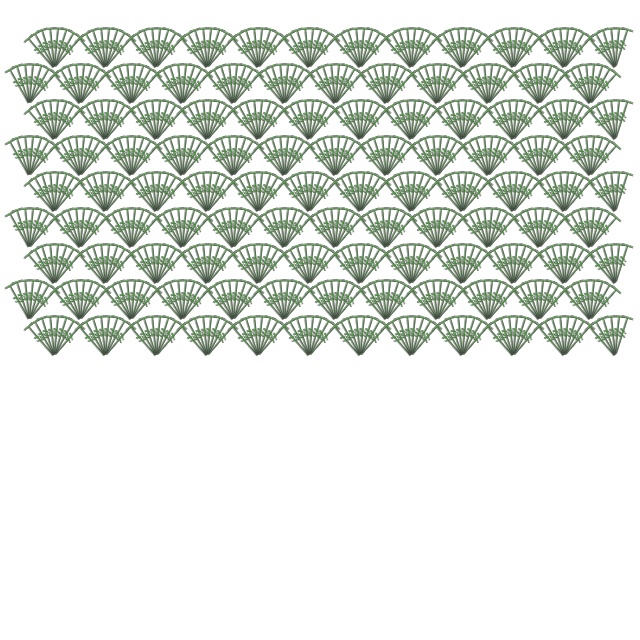fan: (22, 32, 61, 73), (49, 32, 88, 73), (73, 32, 112, 73), (100, 32, 139, 73), (124, 32, 163, 73), (151, 32, 190, 73), (175, 32, 214, 73), (202, 32, 241, 73), (226, 32, 265, 73), (253, 32, 292, 73), (277, 32, 316, 73), (304, 32, 343, 73), (328, 32, 367, 73), (355, 32, 394, 73), (379, 32, 418, 73), (406, 32, 445, 73), (430, 32, 469, 73), (457, 32, 496, 73), (481, 32, 520, 73), (508, 32, 547, 73), (532, 32, 571, 73), (559, 32, 598, 73), (583, 32, 622, 73), (24, 68, 63, 109), (48, 68, 87, 109), (75, 68, 114, 109), (99, 68, 138, 109), (126, 68, 165, 109), (150, 68, 189, 109), (177, 68, 216, 109), (201, 68, 240, 109), (228, 68, 267, 109), (252, 68, 291, 109), (279, 68, 318, 109), (303, 68, 342, 109), (330, 68, 369, 109), (354, 68, 393, 109), (381, 68, 420, 109), (405, 68, 444, 109), (432, 68, 471, 109), (456, 68, 495, 109), (483, 68, 522, 109), (507, 68, 546, 109), (534, 68, 573, 109), (558, 68, 597, 109), (585, 68, 624, 109), (22, 104, 61, 145), (49, 104, 88, 145), (73, 104, 112, 145), (100, 104, 139, 145), (124, 104, 163, 145), (151, 104, 190, 145), (175, 104, 214, 145), (202, 104, 241, 145), (226, 104, 265, 145), (253, 104, 292, 145), (277, 104, 316, 145), (304, 104, 343, 145), (328, 104, 367, 145), (355, 104, 394, 145), (379, 104, 418, 145), (406, 104, 445, 145), (430, 104, 469, 145), (457, 104, 496, 145), (481, 104, 520, 145), (508, 104, 547, 145), (532, 104, 571, 145), (559, 104, 598, 145), (583, 104, 622, 145), (24, 140, 63, 181), (48, 140, 87, 181), (75, 140, 114, 181), (99, 140, 138, 181), (126, 140, 165, 181), (150, 140, 189, 181), (177, 140, 216, 181), (201, 140, 240, 181), (228, 140, 267, 181), (252, 140, 291, 181), (279, 140, 318, 181), (303, 140, 342, 181), (330, 140, 369, 181), (354, 140, 393, 181), (381, 140, 420, 181), (405, 140, 444, 181), (432, 140, 471, 181), (456, 140, 495, 181), (483, 140, 522, 181), (507, 140, 546, 181), (534, 140, 573, 181), (558, 140, 597, 181), (585, 140, 624, 181), (22, 176, 61, 217), (49, 176, 88, 217), (73, 176, 112, 217), (100, 176, 139, 217), (124, 176, 163, 217), (151, 176, 190, 217), (175, 176, 214, 217), (202, 176, 241, 217), (226, 176, 265, 217), (253, 176, 292, 217), (277, 176, 316, 217), (304, 176, 343, 217), (328, 176, 367, 217), (355, 176, 394, 217), (379, 176, 418, 217), (406, 176, 445, 217), (430, 176, 469, 217), (457, 176, 496, 217), (481, 176, 520, 217), (508, 176, 547, 217), (532, 176, 571, 217), (559, 176, 598, 217), (583, 176, 622, 217), (24, 212, 63, 253), (48, 212, 87, 253), (75, 212, 114, 253), (99, 212, 138, 253), (126, 212, 165, 253), (150, 212, 189, 253), (177, 212, 216, 253), (201, 212, 240, 253), (228, 212, 267, 253), (252, 212, 291, 253), (279, 212, 318, 253), (303, 212, 342, 253), (330, 212, 369, 253), (354, 212, 393, 253), (381, 212, 420, 253), (405, 212, 444, 253), (432, 212, 471, 253), (456, 212, 495, 253), (483, 212, 522, 253), (507, 212, 546, 253), (534, 212, 573, 253), (558, 212, 597, 253), (585, 212, 624, 253), (22, 248, 61, 289), (49, 248, 88, 289), (73, 248, 112, 289), (100, 248, 139, 289), (124, 248, 163, 289), (151, 248, 190, 289), (175, 248, 214, 289), (202, 248, 241, 289), (226, 248, 265, 289), (253, 248, 292, 289), (277, 248, 316, 289), (304, 248, 343, 289), (328, 248, 367, 289), (355, 248, 394, 289), (379, 248, 418, 289), (406, 248, 445, 289), (430, 248, 469, 289), (457, 248, 496, 289), (481, 248, 520, 289), (508, 248, 547, 289), (532, 248, 571, 289), (559, 248, 598, 289), (583, 248, 622, 289), (24, 284, 63, 325), (48, 284, 87, 325), (75, 284, 114, 325), (99, 284, 138, 325), (126, 284, 165, 325), (150, 284, 189, 325), (177, 284, 216, 325), (201, 284, 240, 325), (228, 284, 267, 325), (252, 284, 291, 325), (279, 284, 318, 325), (303, 284, 342, 325), (330, 284, 369, 325), (354, 284, 393, 325), (381, 284, 420, 325), (405, 284, 444, 325), (432, 284, 471, 325), (456, 284, 495, 325), (483, 284, 522, 325), (507, 284, 546, 325), (534, 284, 573, 325), (558, 284, 597, 325), (585, 284, 624, 325), (22, 320, 61, 361), (49, 320, 88, 361), (73, 320, 112, 361), (100, 320, 139, 361), (124, 320, 163, 361), (151, 320, 190, 361), (175, 320, 214, 361), (202, 320, 241, 361), (226, 320, 265, 361), (253, 320, 292, 361), (277, 320, 316, 361), (304, 320, 343, 361), (328, 320, 367, 361), (355, 320, 394, 361), (379, 320, 418, 361), (406, 320, 445, 361), (430, 320, 469, 361), (457, 320, 496, 361), (481, 320, 520, 361), (508, 320, 547, 361), (532, 320, 571, 361), (559, 320, 598, 361), (583, 320, 622, 361), (28, 29, 62, 72), (48, 29, 82, 72), (79, 29, 113, 72), (99, 29, 133, 72), (130, 29, 164, 72), (150, 29, 184, 72), (181, 29, 215, 72), (201, 29, 235, 72), (232, 29, 266, 72), (252, 29, 286, 72), (283, 29, 317, 72), (303, 29, 337, 72), (334, 29, 368, 72), (354, 29, 388, 72), (385, 29, 419, 72), (405, 29, 439, 72), (436, 29, 470, 72), (456, 29, 490, 72), (487, 29, 521, 72), (507, 29, 541, 72), (538, 29, 572, 72), (558, 29, 592, 72), (589, 29, 623, 72), (3, 65, 37, 108), (23, 65, 57, 108), (54, 65, 88, 108), (74, 65, 108, 108), (105, 65, 139, 108), (125, 65, 159, 108), (156, 65, 190, 108), (176, 65, 210, 108), (207, 65, 241, 108), (227, 65, 261, 108), (258, 65, 292, 108), (278, 65, 312, 108), (309, 65, 343, 108), (329, 65, 363, 108), (360, 65, 394, 108), (380, 65, 414, 108), (411, 65, 445, 108), (431, 65, 465, 108), (462, 65, 496, 108), (482, 65, 516, 108), (513, 65, 547, 108), (533, 65, 567, 108), (564, 65, 598, 108), (584, 65, 618, 108), (28, 101, 62, 144), (48, 101, 82, 144), (79, 101, 113, 144), (99, 101, 133, 144), (130, 101, 164, 144), (150, 101, 184, 144), (181, 101, 215, 144), (201, 101, 235, 144), (232, 101, 266, 144), (252, 101, 286, 144), (283, 101, 317, 144), (303, 101, 337, 144), (334, 101, 368, 144), (354, 101, 388, 144), (385, 101, 419, 144), (405, 101, 439, 144), (436, 101, 470, 144), (456, 101, 490, 144), (487, 101, 521, 144), (507, 101, 541, 144), (538, 101, 572, 144), (558, 101, 592, 144), (589, 101, 623, 144), (3, 137, 37, 180), (23, 137, 57, 180), (54, 137, 88, 180), (74, 137, 108, 180), (105, 137, 139, 180), (125, 137, 159, 180), (156, 137, 190, 180), (176, 137, 210, 180), (207, 137, 241, 180), (227, 137, 261, 180), (258, 137, 292, 180), (278, 137, 312, 180), (309, 137, 343, 180), (329, 137, 363, 180), (360, 137, 394, 180), (380, 137, 414, 180), (411, 137, 445, 180), (431, 137, 465, 180), (462, 137, 496, 180), (482, 137, 516, 180), (513, 137, 547, 180), (533, 137, 567, 180), (564, 137, 598, 180), (584, 137, 618, 180), (28, 173, 62, 216), (48, 173, 82, 216), (79, 173, 113, 216), (99, 173, 133, 216), (130, 173, 164, 216), (150, 173, 184, 216), (181, 173, 215, 216), (201, 173, 235, 216), (232, 173, 266, 216), (252, 173, 286, 216), (283, 173, 317, 216), (303, 173, 337, 216), (334, 173, 368, 216), (354, 173, 388, 216), (385, 173, 419, 216), (405, 173, 439, 216), (436, 173, 470, 216), (456, 173, 490, 216), (487, 173, 521, 216), (507, 173, 541, 216), (538, 173, 572, 216), (558, 173, 592, 216), (589, 173, 623, 216), (3, 209, 37, 252), (23, 209, 57, 252), (54, 209, 88, 252), (74, 209, 108, 252), (105, 209, 139, 252), (125, 209, 159, 252), (156, 209, 190, 252), (176, 209, 210, 252), (207, 209, 241, 252), (227, 209, 261, 252), (258, 209, 292, 252), (278, 209, 312, 252), (309, 209, 343, 252), (329, 209, 363, 252), (360, 209, 394, 252), (380, 209, 414, 252), (411, 209, 445, 252), (431, 209, 465, 252), (462, 209, 496, 252), (482, 209, 516, 252), (513, 209, 547, 252), (533, 209, 567, 252), (564, 209, 598, 252), (584, 209, 618, 252), (28, 245, 62, 288), (48, 245, 82, 288), (79, 245, 113, 288), (99, 245, 133, 288), (130, 245, 164, 288), (150, 245, 184, 288), (181, 245, 215, 288), (201, 245, 235, 288), (232, 245, 266, 288), (252, 245, 286, 288), (283, 245, 317, 288), (303, 245, 337, 288), (334, 245, 368, 288), (354, 245, 388, 288), (385, 245, 419, 288), (405, 245, 439, 288), (436, 245, 470, 288), (456, 245, 490, 288), (487, 245, 521, 288), (507, 245, 541, 288), (538, 245, 572, 288), (558, 245, 592, 288), (589, 245, 623, 288), (3, 281, 37, 324), (23, 281, 57, 324), (54, 281, 88, 324), (74, 281, 108, 324), (105, 281, 139, 324), (125, 281, 159, 324), (156, 281, 190, 324), (176, 281, 210, 324), (207, 281, 241, 324), (227, 281, 261, 324), (258, 281, 292, 324), (278, 281, 312, 324), (309, 281, 343, 324), (329, 281, 363, 324), (360, 281, 394, 324), (380, 281, 414, 324), (411, 281, 445, 324), (431, 281, 465, 324), (462, 281, 496, 324), (482, 281, 516, 324), (513, 281, 547, 324), (533, 281, 567, 324), (564, 281, 598, 324), (584, 281, 618, 324), (28, 317, 62, 360), (48, 317, 82, 360), (79, 317, 113, 360), (99, 317, 133, 360), (130, 317, 164, 360), (150, 317, 184, 360), (181, 317, 215, 360), (201, 317, 235, 360), (232, 317, 266, 360), (252, 317, 286, 360), (283, 317, 317, 360), (303, 317, 337, 360), (334, 317, 368, 360), (354, 317, 388, 360), (385, 317, 419, 360), (405, 317, 439, 360), (436, 317, 470, 360), (456, 317, 490, 360), (487, 317, 521, 360), (507, 317, 541, 360), (538, 317, 572, 360), (558, 317, 592, 360), (589, 317, 623, 360), (35, 27, 62, 70), (48, 27, 75, 70), (86, 27, 113, 70), (99, 27, 126, 70), (137, 27, 164, 70), (150, 27, 177, 70), (188, 27, 215, 70), (201, 27, 228, 70), (239, 27, 266, 70), (252, 27, 279, 70), (290, 27, 317, 70), (303, 27, 330, 70), (341, 27, 368, 70), (354, 27, 381, 70), (392, 27, 419, 70), (405, 27, 432, 70), (443, 27, 470, 70), (456, 27, 483, 70), (494, 27, 521, 70), (507, 27, 534, 70), (545, 27, 572, 70), (558, 27, 585, 70), (596, 27, 623, 70), (609, 27, 636, 70), (10, 63, 37, 106), (23, 63, 50, 106), (61, 63, 88, 106), (74, 63, 101, 106), (112, 63, 139, 106), (125, 63, 152, 106), (163, 63, 190, 106), (176, 63, 203, 106), (214, 63, 241, 106), (227, 63, 254, 106), (265, 63, 292, 106), (278, 63, 305, 106), (316, 63, 343, 106), (329, 63, 356, 106), (367, 63, 394, 106), (380, 63, 407, 106), (418, 63, 445, 106), (431, 63, 458, 106), (469, 63, 496, 106), (482, 63, 509, 106), (520, 63, 547, 106), (533, 63, 560, 106), (571, 63, 598, 106), (584, 63, 611, 106), (35, 99, 62, 142), (48, 99, 75, 142), (86, 99, 113, 142), (99, 99, 126, 142), (137, 99, 164, 142), (150, 99, 177, 142), (188, 99, 215, 142), (201, 99, 228, 142), (239, 99, 266, 142), (252, 99, 279, 142), (290, 99, 317, 142), (303, 99, 330, 142), (341, 99, 368, 142), (354, 99, 381, 142), (392, 99, 419, 142), (405, 99, 432, 142), (443, 99, 470, 142), (456, 99, 483, 142), (494, 99, 521, 142), (507, 99, 534, 142), (545, 99, 572, 142), (558, 99, 585, 142), (596, 99, 623, 142), (609, 99, 636, 142), (10, 135, 37, 178), (23, 135, 50, 178), (61, 135, 88, 178), (74, 135, 101, 178), (112, 135, 139, 178), (125, 135, 152, 178), (163, 135, 190, 178), (176, 135, 203, 178), (214, 135, 241, 178), (227, 135, 254, 178), (265, 135, 292, 178), (278, 135, 305, 178), (316, 135, 343, 178), (329, 135, 356, 178), (367, 135, 394, 178), (380, 135, 407, 178), (418, 135, 445, 178), (431, 135, 458, 178), (469, 135, 496, 178), (482, 135, 509, 178), (520, 135, 547, 178), (533, 135, 560, 178), (571, 135, 598, 178), (584, 135, 611, 178), (35, 171, 62, 214), (48, 171, 75, 214), (86, 171, 113, 214), (99, 171, 126, 214), (137, 171, 164, 214), (150, 171, 177, 214), (188, 171, 215, 214), (201, 171, 228, 214), (239, 171, 266, 214), (252, 171, 279, 214), (290, 171, 317, 214), (303, 171, 330, 214), (341, 171, 368, 214), (354, 171, 381, 214), (392, 171, 419, 214), (405, 171, 432, 214), (443, 171, 470, 214), (456, 171, 483, 214), (494, 171, 521, 214), (507, 171, 534, 214), (545, 171, 572, 214), (558, 171, 585, 214), (596, 171, 623, 214), (609, 171, 636, 214), (10, 207, 37, 250), (23, 207, 50, 250), (61, 207, 88, 250), (74, 207, 101, 250), (112, 207, 139, 250), (125, 207, 152, 250), (163, 207, 190, 250), (176, 207, 203, 250), (214, 207, 241, 250), (227, 207, 254, 250), (265, 207, 292, 250), (278, 207, 305, 250), (316, 207, 343, 250), (329, 207, 356, 250), (367, 207, 394, 250), (380, 207, 407, 250), (418, 207, 445, 250), (431, 207, 458, 250), (469, 207, 496, 250), (482, 207, 509, 250), (520, 207, 547, 250), (533, 207, 560, 250), (571, 207, 598, 250), (584, 207, 611, 250), (35, 243, 62, 286), (48, 243, 75, 286), (86, 243, 113, 286), (99, 243, 126, 286), (137, 243, 164, 286), (150, 243, 177, 286), (188, 243, 215, 286), (201, 243, 228, 286), (239, 243, 266, 286), (252, 243, 279, 286), (290, 243, 317, 286), (303, 243, 330, 286), (341, 243, 368, 286), (354, 243, 381, 286), (392, 243, 419, 286), (405, 243, 432, 286), (443, 243, 470, 286), (456, 243, 483, 286), (494, 243, 521, 286), (507, 243, 534, 286), (545, 243, 572, 286), (558, 243, 585, 286), (596, 243, 623, 286), (609, 243, 636, 286), (10, 279, 37, 322), (23, 279, 50, 322), (61, 279, 88, 322), (74, 279, 101, 322), (112, 279, 139, 322), (125, 279, 152, 322), (163, 279, 190, 322), (176, 279, 203, 322), (214, 279, 241, 322), (227, 279, 254, 322), (265, 279, 292, 322), (278, 279, 305, 322), (316, 279, 343, 322), (329, 279, 356, 322), (367, 279, 394, 322), (380, 279, 407, 322), (418, 279, 445, 322), (431, 279, 458, 322), (469, 279, 496, 322), (482, 279, 509, 322), (520, 279, 547, 322), (533, 279, 560, 322), (571, 279, 598, 322), (584, 279, 611, 322), (35, 315, 62, 358), (48, 315, 75, 358), (86, 315, 113, 358), (99, 315, 126, 358), (137, 315, 164, 358), (150, 315, 177, 358), (188, 315, 215, 358), (201, 315, 228, 358), (239, 315, 266, 358), (252, 315, 279, 358), (290, 315, 317, 358), (303, 315, 330, 358), (341, 315, 368, 358), (354, 315, 381, 358), (392, 315, 419, 358), (405, 315, 432, 358), (443, 315, 470, 358), (456, 315, 483, 358), (494, 315, 521, 358), (507, 315, 534, 358), (545, 315, 572, 358), (558, 315, 585, 358), (596, 315, 623, 358), (609, 315, 636, 358), (43, 26, 62, 69), (48, 26, 67, 69), (94, 26, 113, 69), (99, 26, 118, 69), (145, 26, 164, 69), (150, 26, 169, 69), (196, 26, 215, 69), (201, 26, 220, 69), (247, 26, 266, 69), (252, 26, 271, 69), (298, 26, 317, 69), (303, 26, 322, 69), (349, 26, 368, 69), (354, 26, 373, 69), (400, 26, 419, 69), (405, 26, 424, 69), (451, 26, 470, 69), (456, 26, 475, 69), (502, 26, 521, 69), (507, 26, 526, 69), (553, 26, 572, 69), (558, 26, 577, 69), (604, 26, 623, 69), (609, 26, 628, 69), (18, 62, 37, 105), (23, 62, 42, 105), (69, 62, 88, 105), (74, 62, 93, 105), (120, 62, 139, 105), (125, 62, 144, 105), (171, 62, 190, 105), (176, 62, 195, 105), (222, 62, 241, 105), (227, 62, 246, 105), (273, 62, 292, 105), (278, 62, 297, 105), (324, 62, 343, 105), (329, 62, 348, 105), (375, 62, 394, 105), (380, 62, 399, 105), (426, 62, 445, 105), (431, 62, 450, 105), (477, 62, 496, 105), (482, 62, 501, 105), (528, 62, 547, 105), (533, 62, 552, 105), (579, 62, 598, 105), (584, 62, 603, 105), (43, 98, 62, 141), (48, 98, 67, 141), (94, 98, 113, 141), (99, 98, 118, 141), (145, 98, 164, 141), (150, 98, 169, 141), (196, 98, 215, 141), (201, 98, 220, 141), (247, 98, 266, 141), (252, 98, 271, 141), (298, 98, 317, 141), (303, 98, 322, 141), (349, 98, 368, 141), (354, 98, 373, 141), (400, 98, 419, 141), (405, 98, 424, 141), (451, 98, 470, 141), (456, 98, 475, 141), (502, 98, 521, 141), (507, 98, 526, 141), (553, 98, 572, 141), (558, 98, 577, 141), (604, 98, 623, 141), (609, 98, 628, 141), (18, 134, 37, 177), (23, 134, 42, 177), (69, 134, 88, 177), (74, 134, 93, 177), (120, 134, 139, 177), (125, 134, 144, 177), (171, 134, 190, 177), (176, 134, 195, 177), (222, 134, 241, 177), (227, 134, 246, 177), (273, 134, 292, 177), (278, 134, 297, 177), (324, 134, 343, 177), (329, 134, 348, 177), (375, 134, 394, 177), (380, 134, 399, 177), (426, 134, 445, 177), (431, 134, 450, 177), (477, 134, 496, 177), (482, 134, 501, 177), (528, 134, 547, 177), (533, 134, 552, 177), (579, 134, 598, 177), (584, 134, 603, 177), (43, 170, 62, 213), (48, 170, 67, 213), (94, 170, 113, 213), (99, 170, 118, 213), (145, 170, 164, 213), (150, 170, 169, 213), (196, 170, 215, 213), (201, 170, 220, 213), (247, 170, 266, 213), (252, 170, 271, 213), (298, 170, 317, 213), (303, 170, 322, 213), (349, 170, 368, 213), (354, 170, 373, 213), (400, 170, 419, 213), (405, 170, 424, 213), (451, 170, 470, 213), (456, 170, 475, 213), (502, 170, 521, 213), (507, 170, 526, 213), (553, 170, 572, 213), (558, 170, 577, 213), (604, 170, 623, 213), (609, 170, 628, 213), (18, 206, 37, 249), (23, 206, 42, 249), (69, 206, 88, 249), (74, 206, 93, 249), (120, 206, 139, 249), (125, 206, 144, 249), (171, 206, 190, 249), (176, 206, 195, 249), (222, 206, 241, 249), (227, 206, 246, 249), (273, 206, 292, 249), (278, 206, 297, 249), (324, 206, 343, 249), (329, 206, 348, 249), (375, 206, 394, 249), (380, 206, 399, 249), (426, 206, 445, 249), (431, 206, 450, 249), (477, 206, 496, 249), (482, 206, 501, 249), (528, 206, 547, 249), (533, 206, 552, 249), (579, 206, 598, 249), (584, 206, 603, 249), (43, 242, 62, 285), (48, 242, 67, 285), (94, 242, 113, 285), (99, 242, 118, 285), (145, 242, 164, 285), (150, 242, 169, 285), (196, 242, 215, 285), (201, 242, 220, 285), (247, 242, 266, 285), (252, 242, 271, 285), (298, 242, 317, 285), (303, 242, 322, 285), (349, 242, 368, 285), (354, 242, 373, 285), (400, 242, 419, 285), (405, 242, 424, 285), (451, 242, 470, 285), (456, 242, 475, 285), (502, 242, 521, 285), (507, 242, 526, 285), (553, 242, 572, 285), (558, 242, 577, 285), (604, 242, 623, 285), (609, 242, 628, 285), (18, 278, 37, 321), (23, 278, 42, 321), (69, 278, 88, 321), (74, 278, 93, 321), (120, 278, 139, 321), (125, 278, 144, 321), (171, 278, 190, 321), (176, 278, 195, 321), (222, 278, 241, 321), (227, 278, 246, 321), (273, 278, 292, 321), (278, 278, 297, 321), (324, 278, 343, 321), (329, 278, 348, 321), (375, 278, 394, 321), (380, 278, 399, 321), (426, 278, 445, 321), (431, 278, 450, 321), (477, 278, 496, 321), (482, 278, 501, 321), (528, 278, 547, 321), (533, 278, 552, 321), (579, 278, 598, 321), (584, 278, 603, 321), (43, 314, 62, 357), (48, 314, 67, 357), (94, 314, 113, 357), (99, 314, 118, 357), (145, 314, 164, 357), (150, 314, 169, 357), (196, 314, 215, 357), (201, 314, 220, 357), (247, 314, 266, 357), (252, 314, 271, 357), (298, 314, 317, 357), (303, 314, 322, 357), (349, 314, 368, 357), (354, 314, 373, 357), (400, 314, 419, 357), (405, 314, 424, 357), (451, 314, 470, 357), (456, 314, 475, 357), (502, 314, 521, 357), (507, 314, 526, 357), (553, 314, 572, 357), (558, 314, 577, 357), (604, 314, 623, 357), (609, 314, 628, 357)
